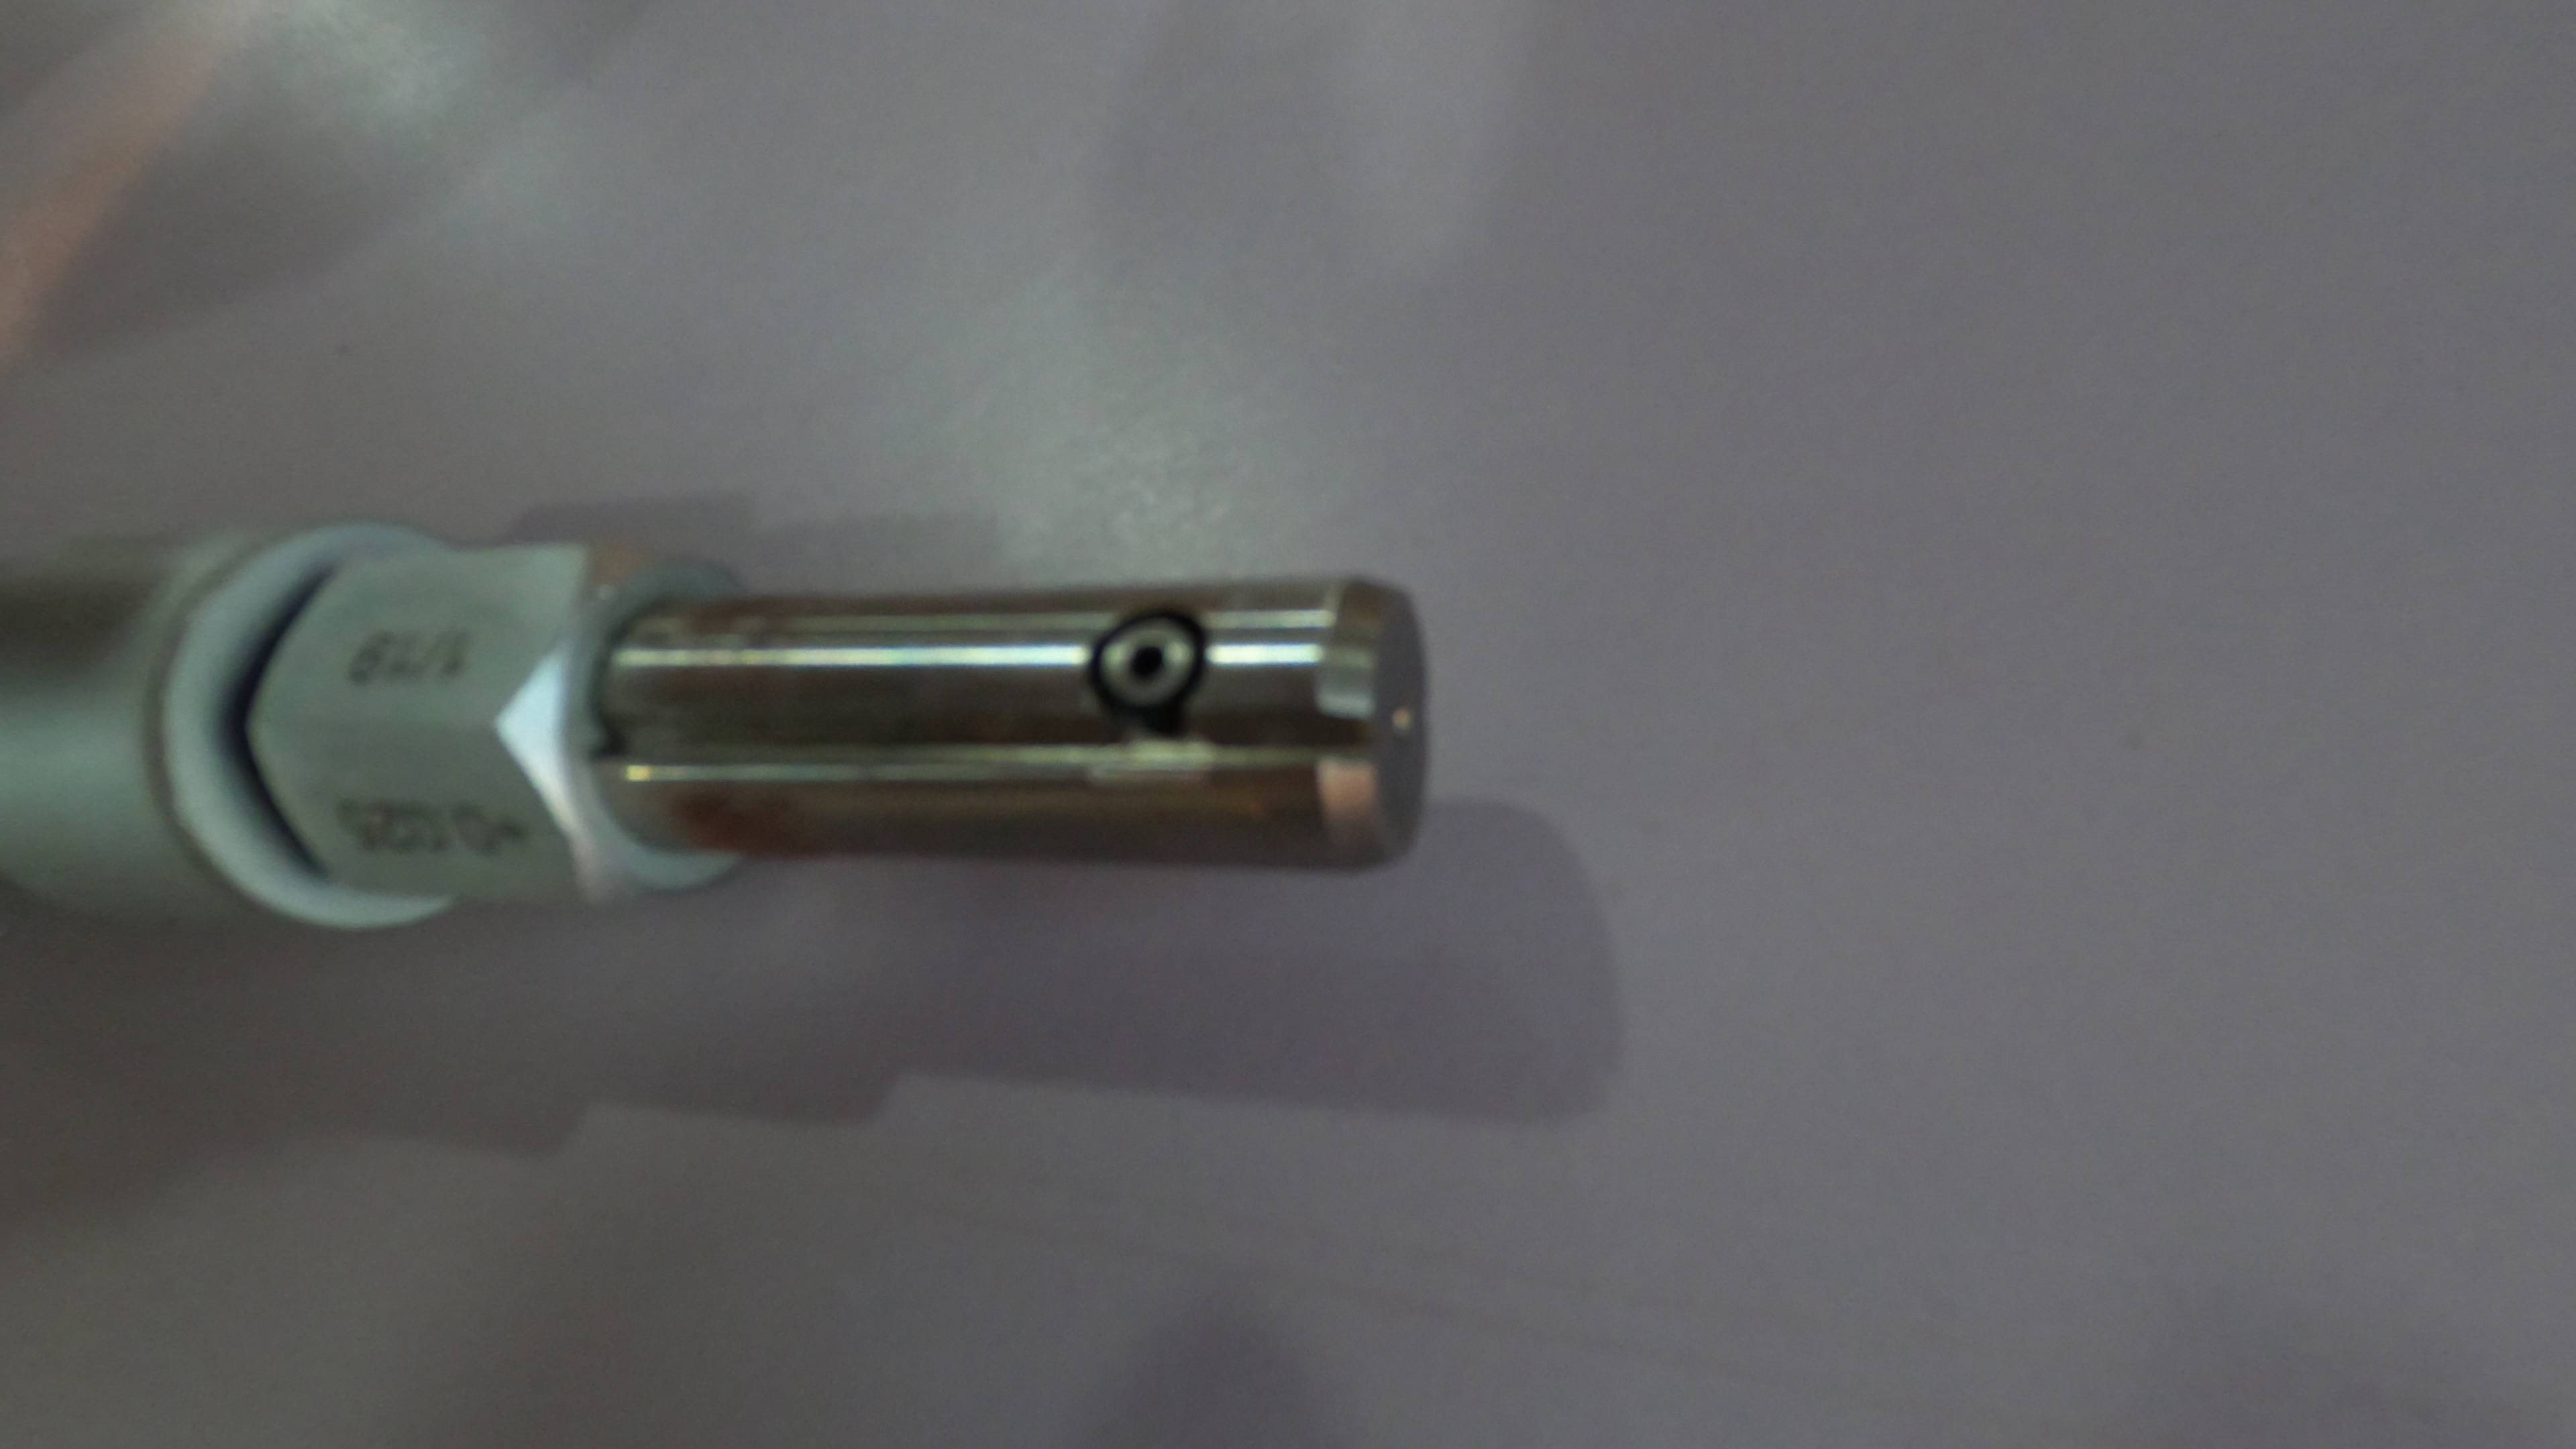air_gauge: (2, 513, 1442, 947)
